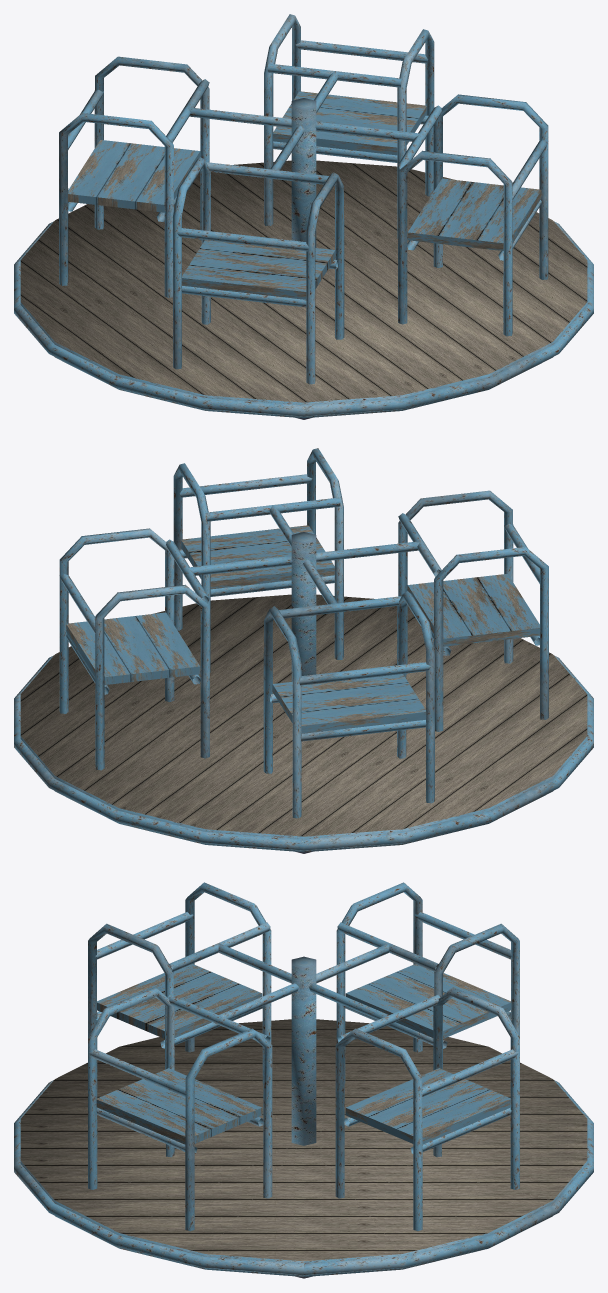
Rendered from playground_carousel_lod2_web.glb.
3 renders of one model, top to bottom at view 1: azimuth 30°, elevation 25°; view 2: azimuth 150°, elevation 25°; view 3: azimuth 270°, elevation 25°, orthographic.
Parts seen in each view (by area): view 1: Carousel_RotorMesh; view 2: Carousel_RotorMesh; view 3: Carousel_RotorMesh.
Boxes of the visible parts, <box> form: Carousel_RotorMesh: <box>14,14,593,418</box>; Carousel_RotorMesh: <box>14,448,593,852</box>; Carousel_RotorMesh: <box>14,882,593,1276</box>.
Size of the model in its own units: 2.05 by 1.18 by 2.02.
Materials: 5 (5 with a texture image).
